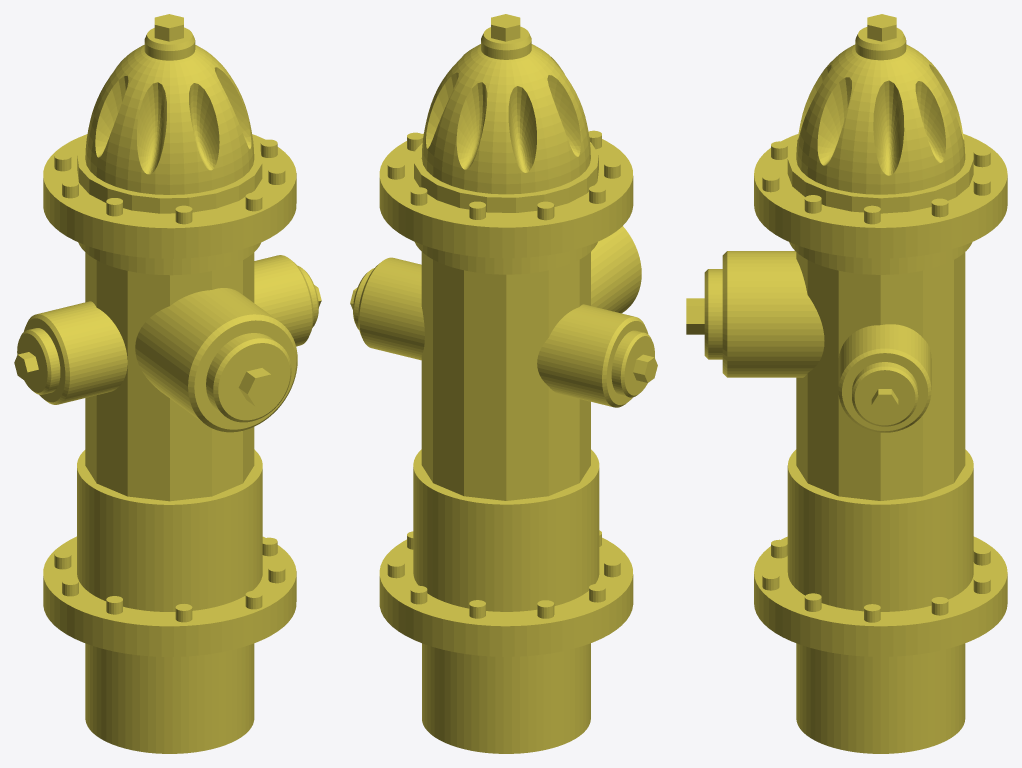
Rendered from hydrant-yellow.glb.
3 renders of one model, left to right at view 1: azimuth 30°, elevation 25°; view 2: azimuth 150°, elevation 25°; view 3: azimuth 270°, elevation 25°, orthographic.
Parts seen in each view (by area): view 1: Mesh_Mesh_head_geo.001_lambert2SG.001; view 2: Mesh_Mesh_head_geo.001_lambert2SG.001; view 3: Mesh_Mesh_head_geo.001_lambert2SG.001.
Boxes of the visible parts, bbox=[...] form: Mesh_Mesh_head_geo.001_lambert2SG.001: bbox=[14, 14, 321, 753]; Mesh_Mesh_head_geo.001_lambert2SG.001: bbox=[350, 14, 657, 753]; Mesh_Mesh_head_geo.001_lambert2SG.001: bbox=[686, 14, 1007, 753].
Size of the model in its own units: 40.22 by 91 by 38.
